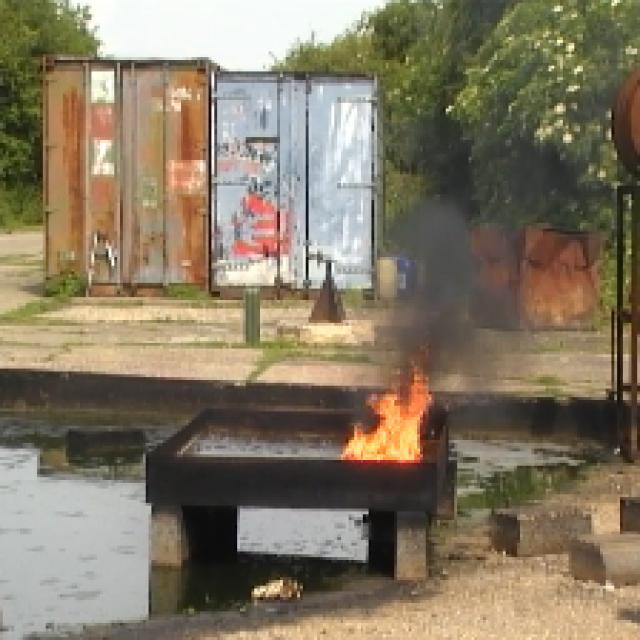Fire: (334, 372, 435, 474)
Smoke: (396, 225, 509, 365)
